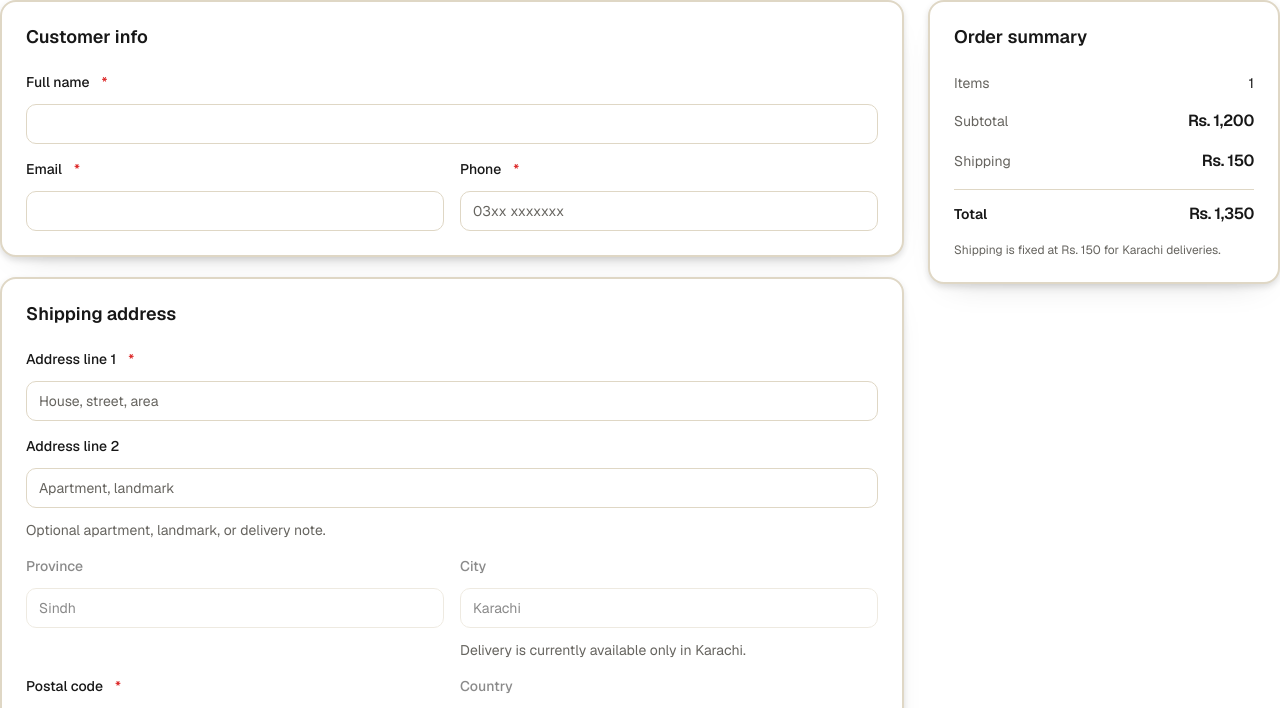
checkout form migration › validates checkout fields on change before submission
In the field labelled "Email *": (235, 211) [26,191,444,231], type "bad-email"
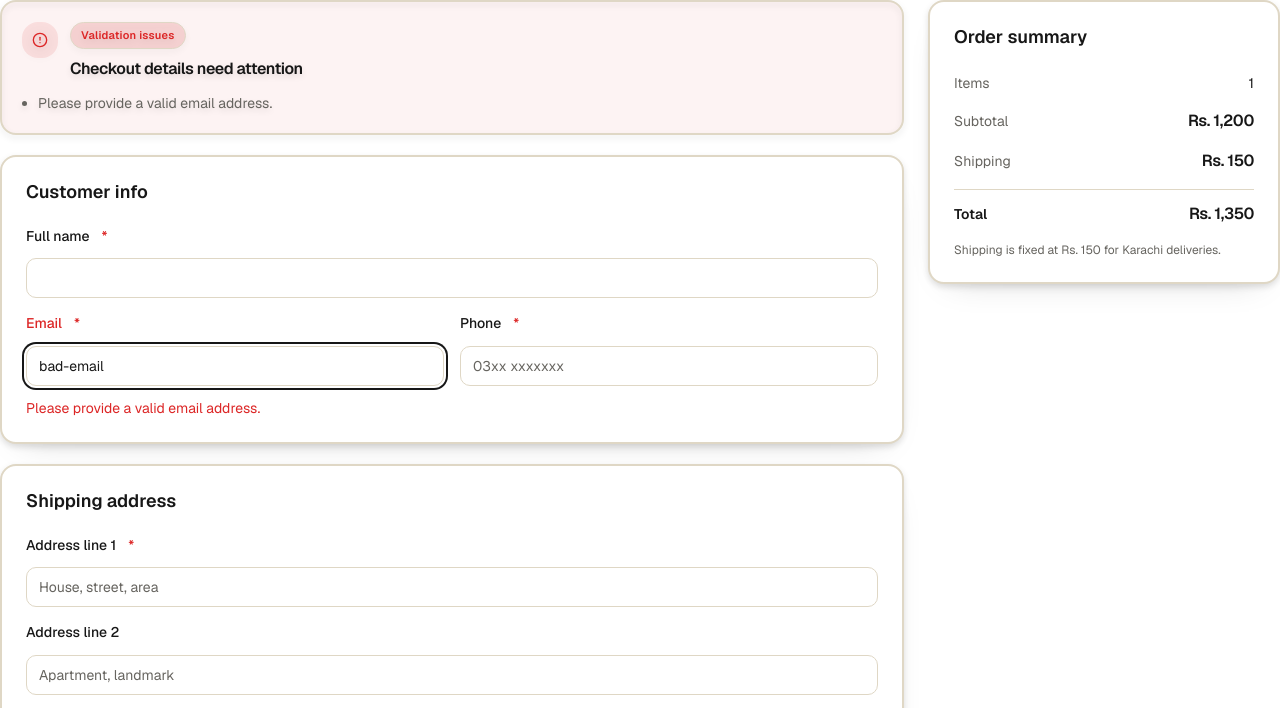
Expected: the list item "Please provide a valid email address." is shown, [38,94,272,112]
